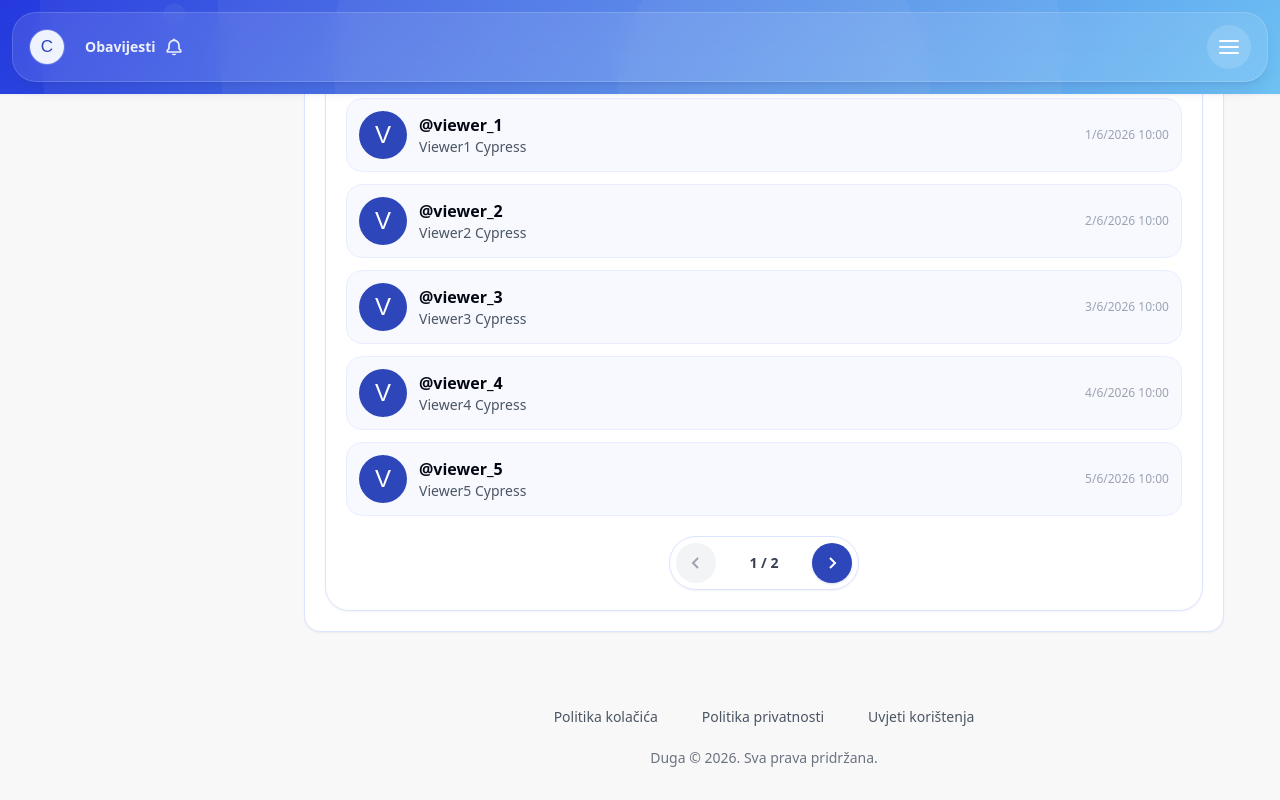
Test: profile photos and profile views branches › paginates profile views and shows the empty state
(page scrolled)
Check: the link "@viewer_1" is shown, box [346,98,1182,172]
Check: the text "@viewer_6" is not shown
Click the button named "Sljedeća stranica pregleda" at {"x": 832, "y": 563}, box [812,543,852,583]
(page scrolled)
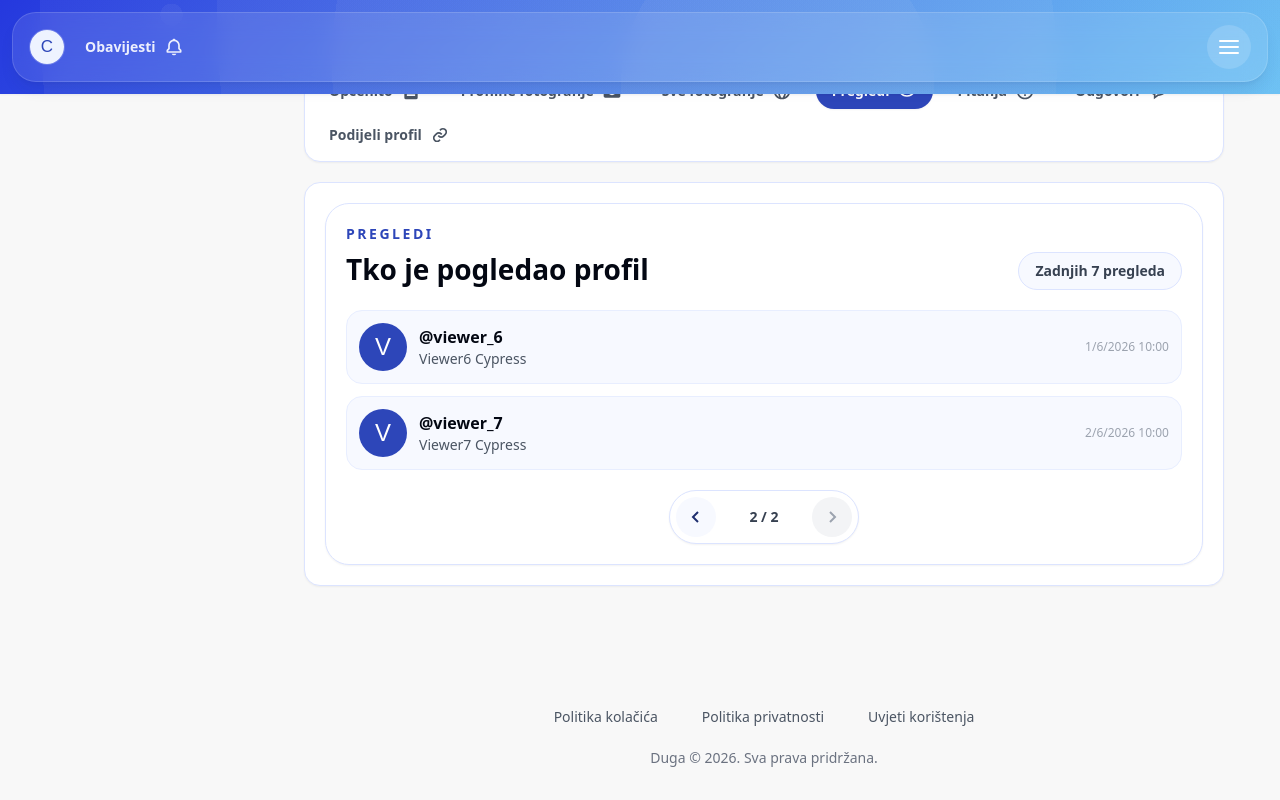
Check: the link "@viewer_6" is shown, box [346,310,1182,384]
Check: the text "2 / 2" is shown, box [750,507,779,526]
Click the button named "Prethodna stranica pregleda" at {"x": 696, "y": 517}, box [676,497,716,537]
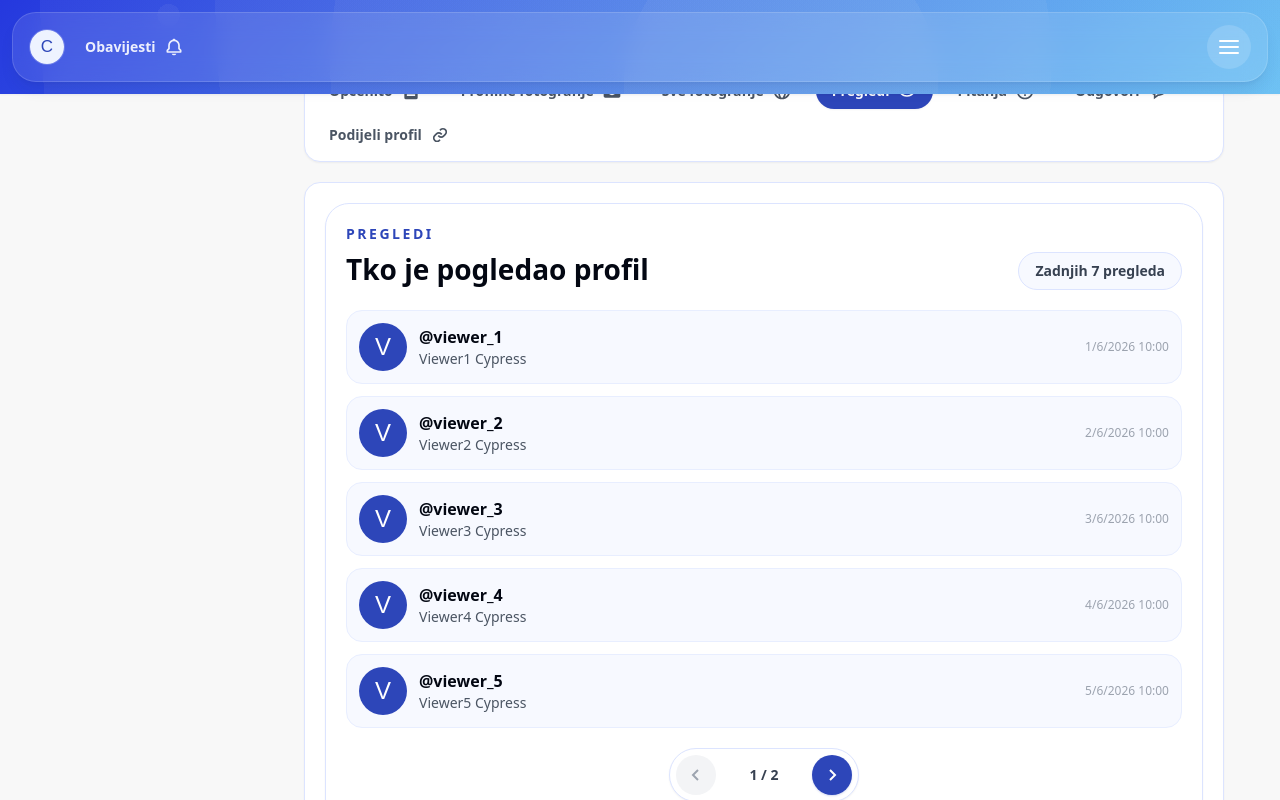
Check: the link "@viewer_1" is shown, box [346,310,1182,384]
